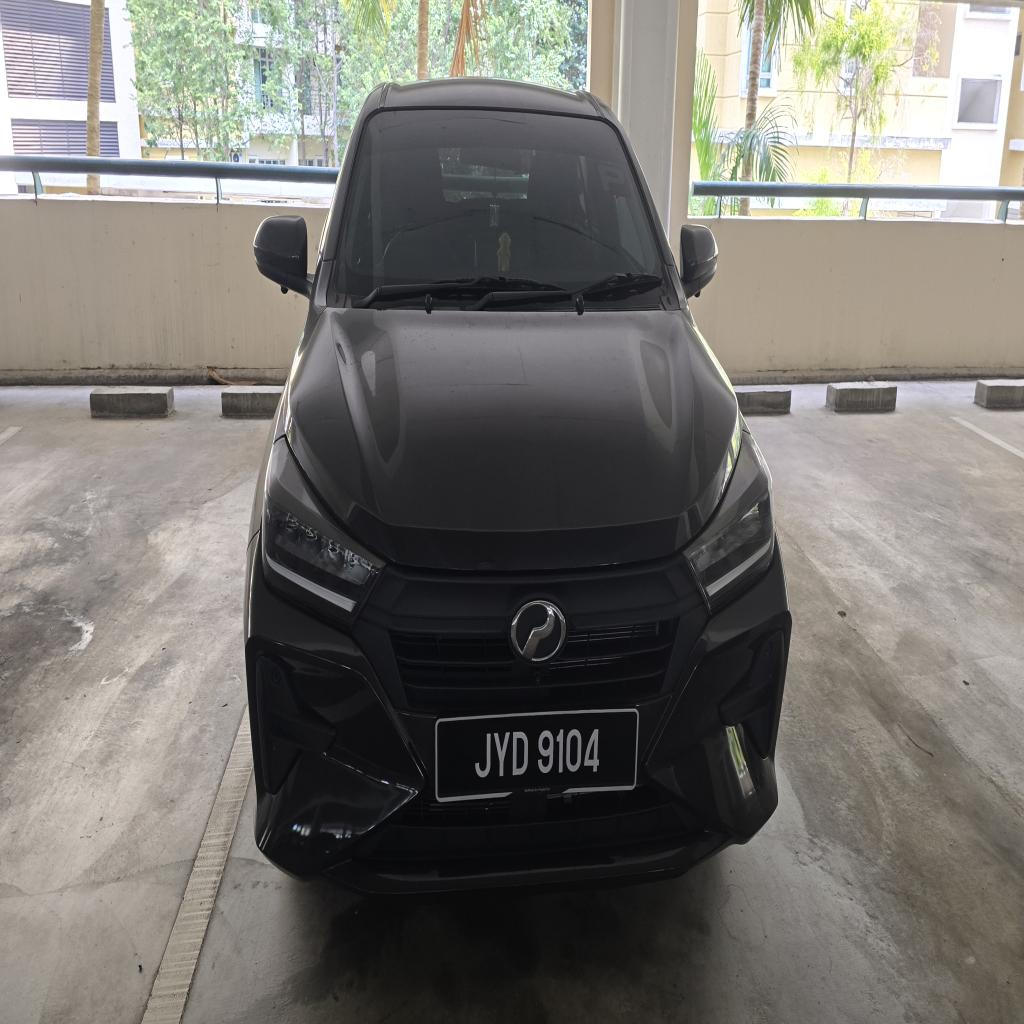car: (245, 80, 790, 891)
car plate: (435, 709, 638, 801)
